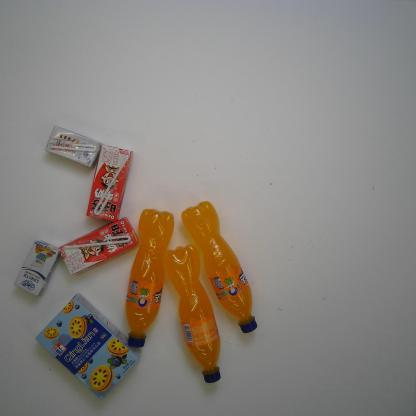Dessert: (32, 289, 142, 400)
Drink: (179, 200, 263, 335), (162, 244, 224, 386), (122, 208, 178, 351)
Milk: (54, 214, 140, 278), (82, 144, 136, 224), (10, 236, 63, 298), (43, 126, 105, 168)
